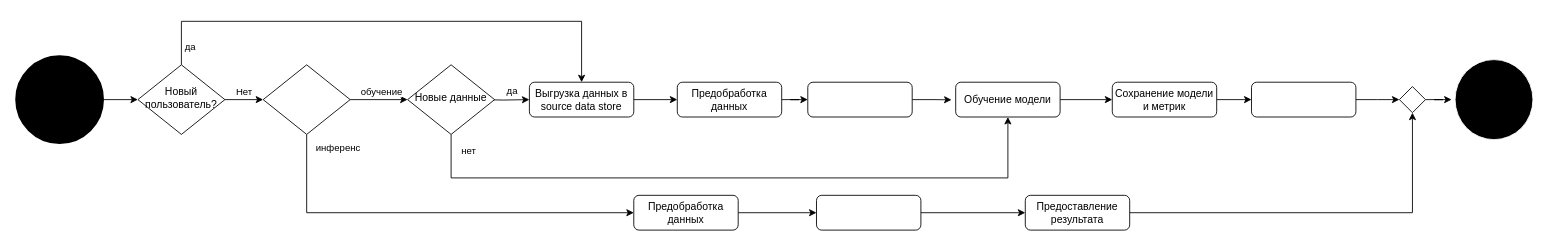
Image size: 1551x245. Some labels were removed from this diagram. The centre of each missing label's shape, as x and y in pixels:
Запись в feature store: [859,99]
Запуск модели: [868,212]
Развертывание модели: [1303,99]
Тип задачи: [306,99]
